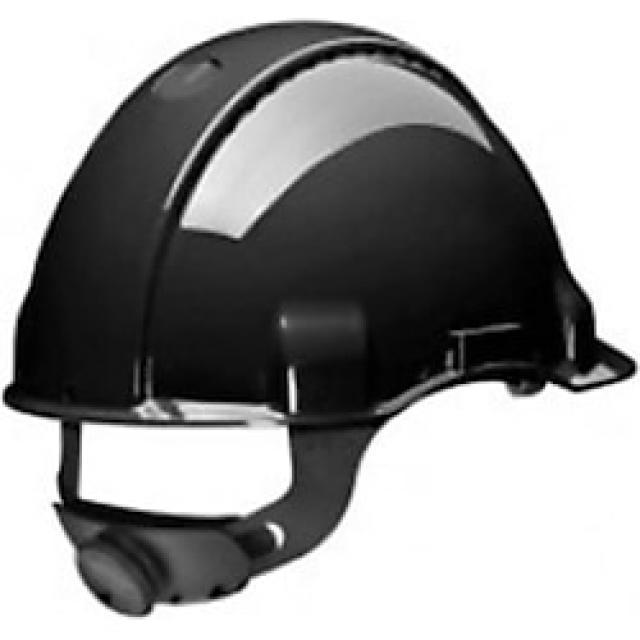safety_helmet: (3, 20, 635, 620)
